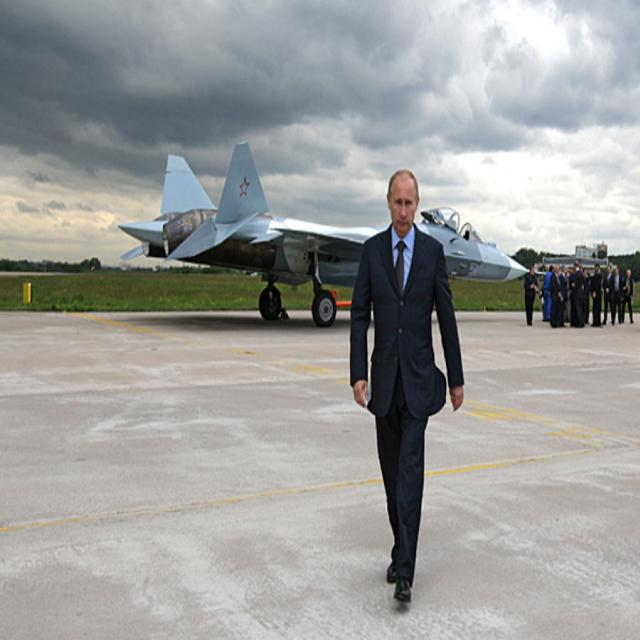MIL_Plane: (117, 142, 530, 327)
